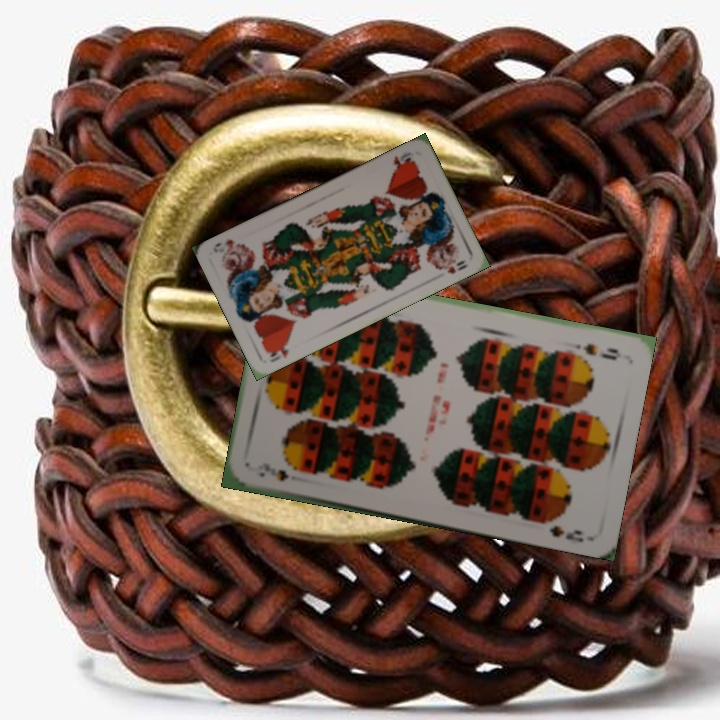HO: (263, 338, 292, 365), (389, 148, 417, 174)
S9: (579, 339, 621, 363), (254, 459, 291, 485)
